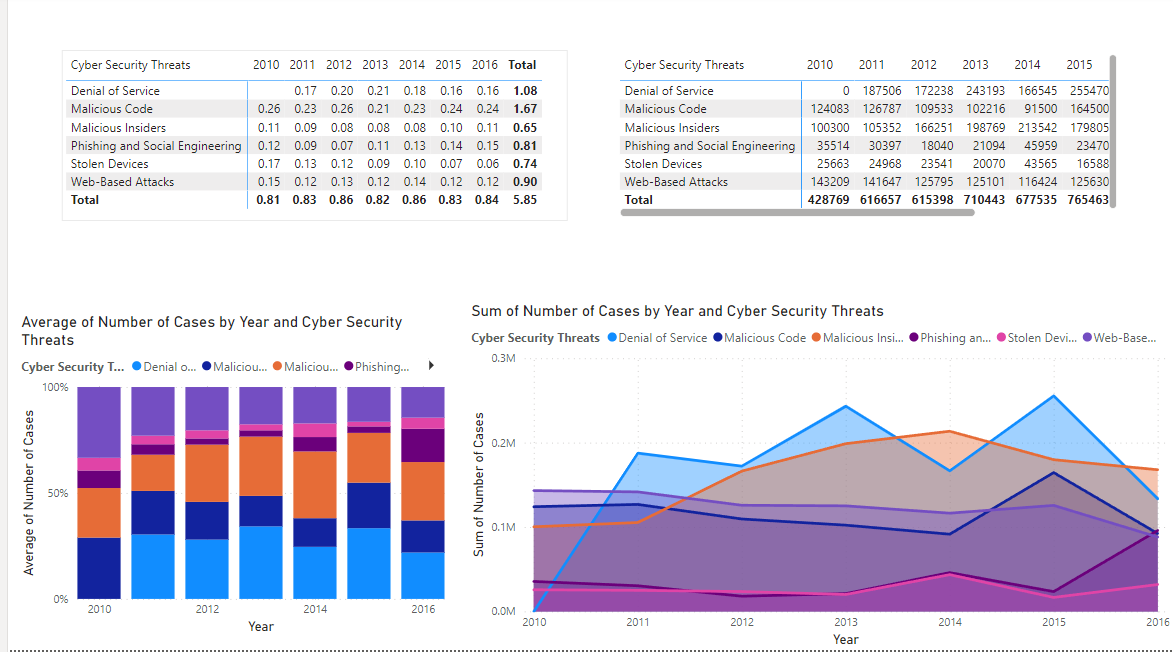

The dashboard page shown, as its layout file describes it:
{"tool":"powerbi","page":{"name":"Page 1","canvas":[1280,720],"ordinal":0},"visuals":[{"type":"pivotTable","fields":{"Rows":["table.Cyber Security Threats"],"Columns":["table.Year"],"Values":["Sum(table.Percentage per Year)"]},"box":[59,60.4,555.7,188],"z":0},{"type":"hundredPercentStackedColumnChart","fields":{"Category":["table.Year"],"Y":["Avg(table.Number of Cases)"],"Series":["table.Cyber Security Threats"]},"box":[9.6,348.5,474.8,358.1],"z":1000},{"type":"areaChart","fields":{"Category":["table.Year"],"Y":["Sum(table.Number of Cases)"],"Series":["table.Cyber Security Threats"]},"box":[503.6,336.2,776.7,384.2],"z":2000},{"type":"pivotTable","fields":{"Rows":["table.Cyber Security Threats"],"Columns":["table.Year"],"Values":["Sum(table.Number of Cases)"]},"box":[666.9,60.4,555.7,188],"z":3000}]}

Visuals, with their boxes in screenshot pixels (x1, y1, x2, y2), scaled from the page's 1280x720 canvas onto the 1173x652 screenshot:
pivotTable - table.Cyber Security Threats x table.Year: 54,55,563,225
hundredPercentStackedColumnChart - table.Year x Avg(table.Number of Cases): 9,316,444,640
areaChart - table.Year x Sum(table.Number of Cases): 462,304,1172,651
pivotTable - table.Cyber Security Threats x table.Year: 611,55,1120,225
